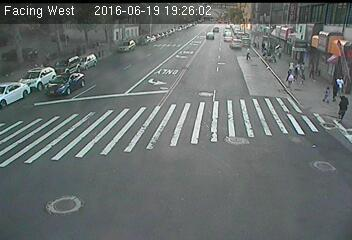neg: (134, 31, 146, 47), (92, 41, 103, 56), (315, 54, 323, 66)
pos: (329, 73, 350, 100), (333, 93, 351, 124), (319, 85, 333, 105), (291, 60, 305, 79), (298, 62, 310, 77), (243, 46, 255, 61)
